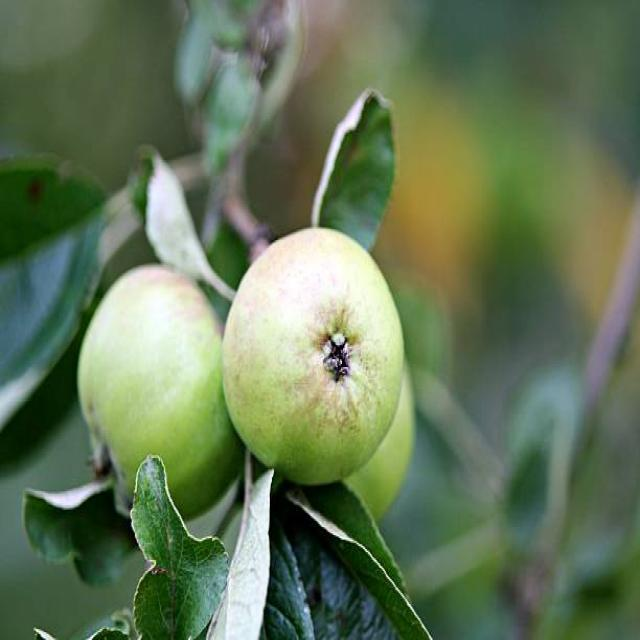Unripe: (221, 225, 404, 487), (78, 263, 237, 522)
